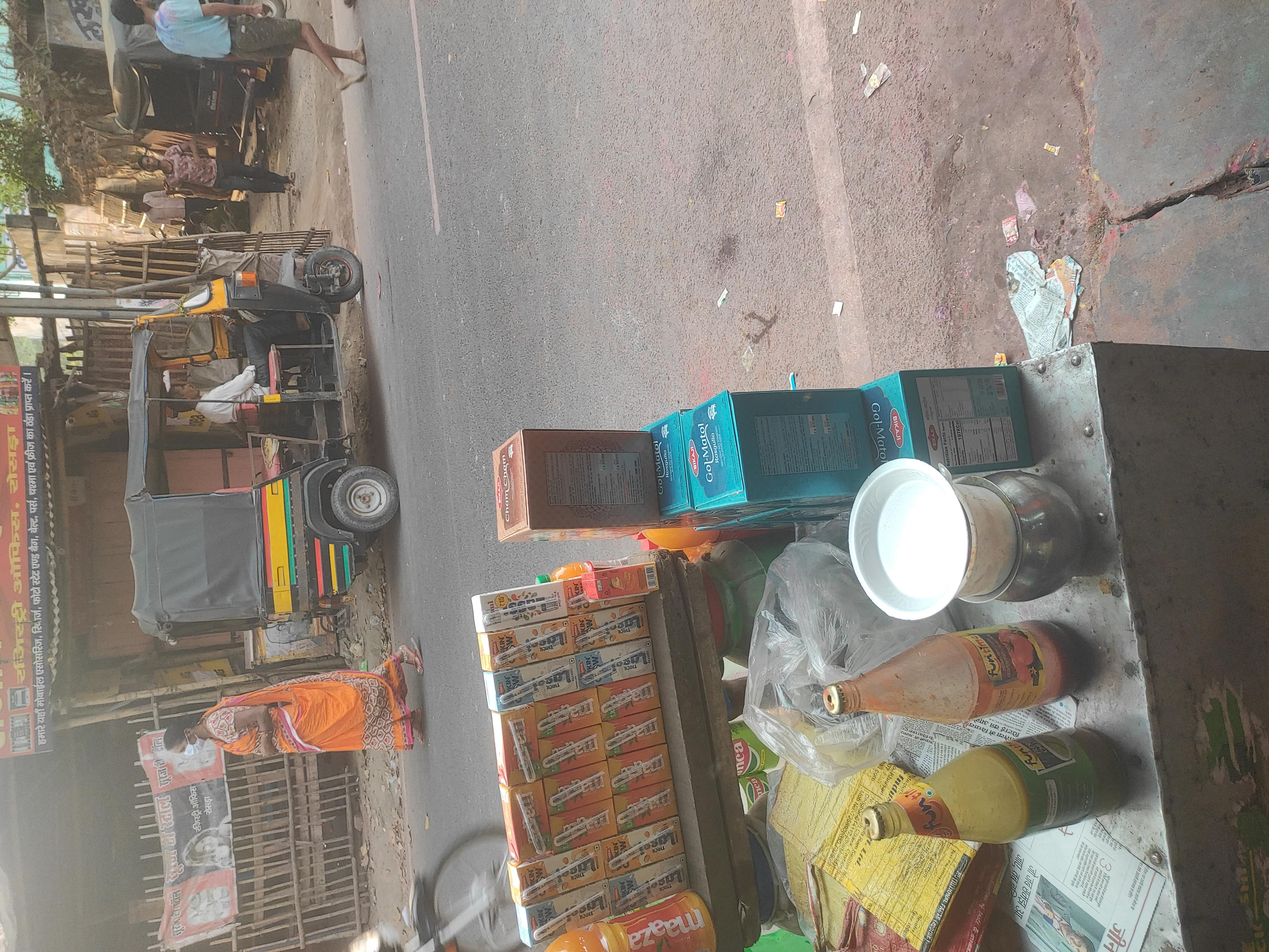Auto: (391, 92, 986, 290)
